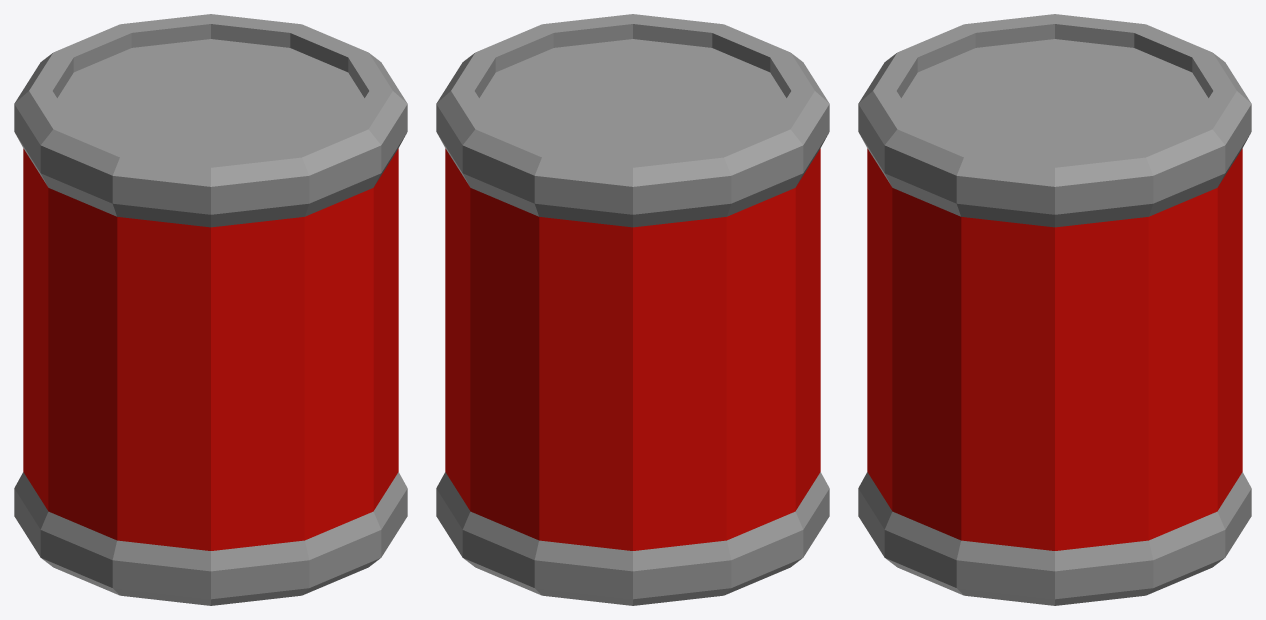
The model's file is can.fbx.
The picture shows the model from 3 angles, left to right: view 1: azimuth 30°, elevation 25°; view 2: azimuth 150°, elevation 25°; view 3: azimuth 270°, elevation 25°; orthographic projection.
Parts seen in each view (by area): view 1: Can; view 2: Can; view 3: Can.
Part boxes in pixels (x1=…): Can: x1=14, y1=14, x2=407, y2=605; Can: x1=436, y1=14, x2=829, y2=605; Can: x1=858, y1=14, x2=1251, y2=605.
Bounding box in the file's own units: 40 × 49.16 × 40.
